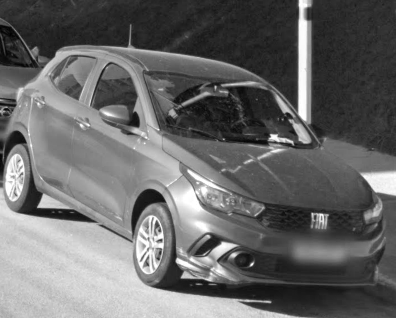car: (3, 43, 386, 295)
